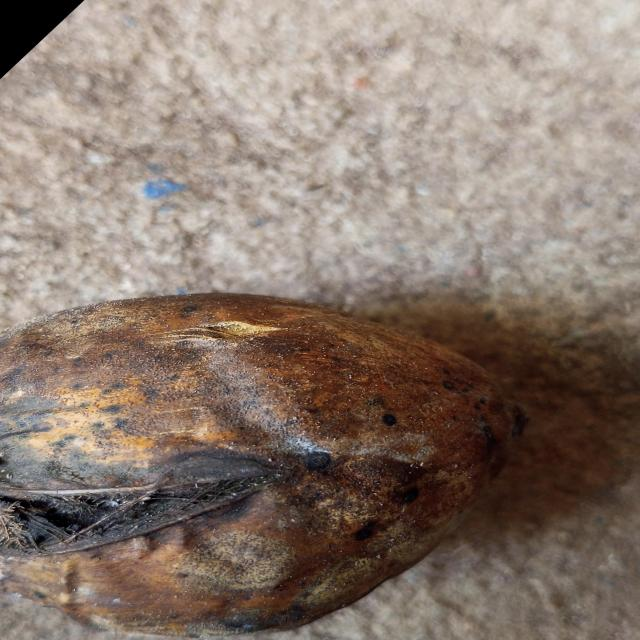damaged: (0, 292, 521, 640)
